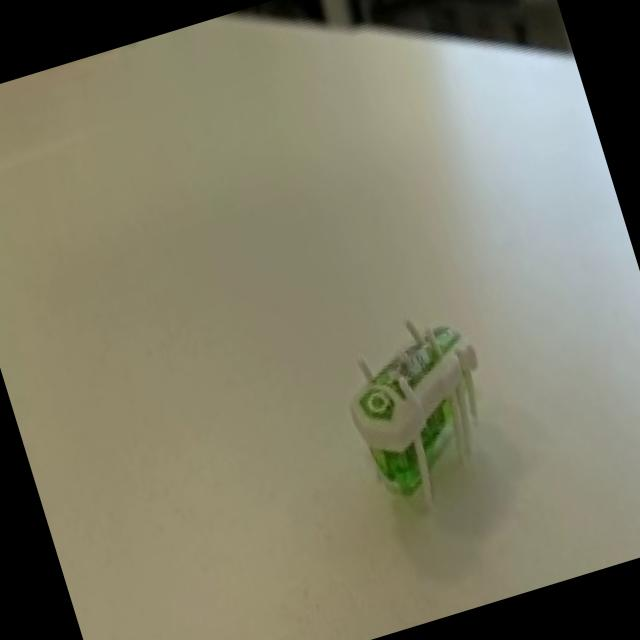4_NanoBug_Blanco: (299, 278, 542, 514)
